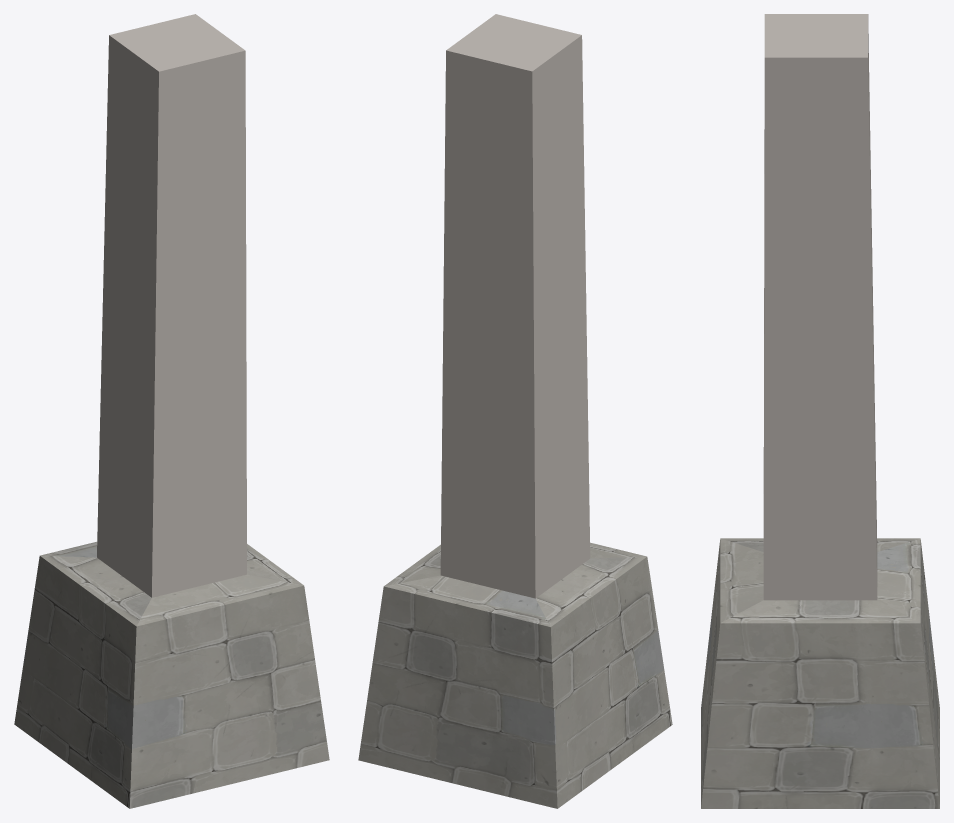
The model's file is BuildingPillar_A_01.fbx.
3 renders of one model, left to right at view 1: azimuth 30°, elevation 25°; view 2: azimuth 150°, elevation 25°; view 3: azimuth 270°, elevation 25°, orthographic. The views are drawn at different scales.
Visible parts, largest first — view 1: BuildingPillar_A_01; view 2: BuildingPillar_A_01; view 3: BuildingPillar_A_01.
Part boxes in pixels (x1,y1,x2,y2): BuildingPillar_A_01: (14,14,329,808); BuildingPillar_A_01: (358,14,672,808); BuildingPillar_A_01: (701,14,939,808).
Bounding box in the file's own units: 178 × 596 × 178.
